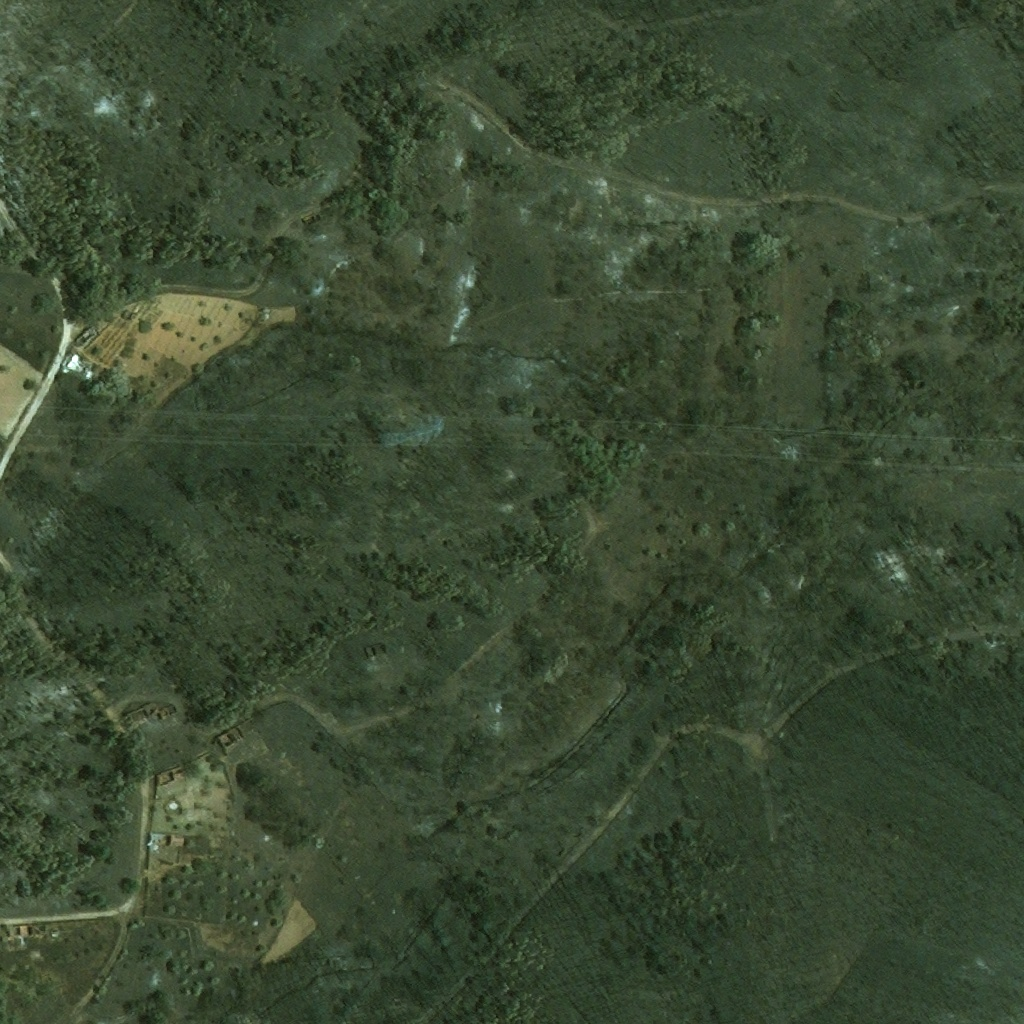0 no-damage: (168, 802, 176, 811)
3 destroyed: (62, 353, 95, 383), (73, 323, 101, 350), (216, 725, 244, 750), (152, 766, 183, 788), (119, 308, 139, 328), (148, 833, 176, 845), (8, 925, 32, 936), (142, 702, 158, 715), (157, 710, 168, 719)
4 un-classified: (99, 709, 114, 718)
